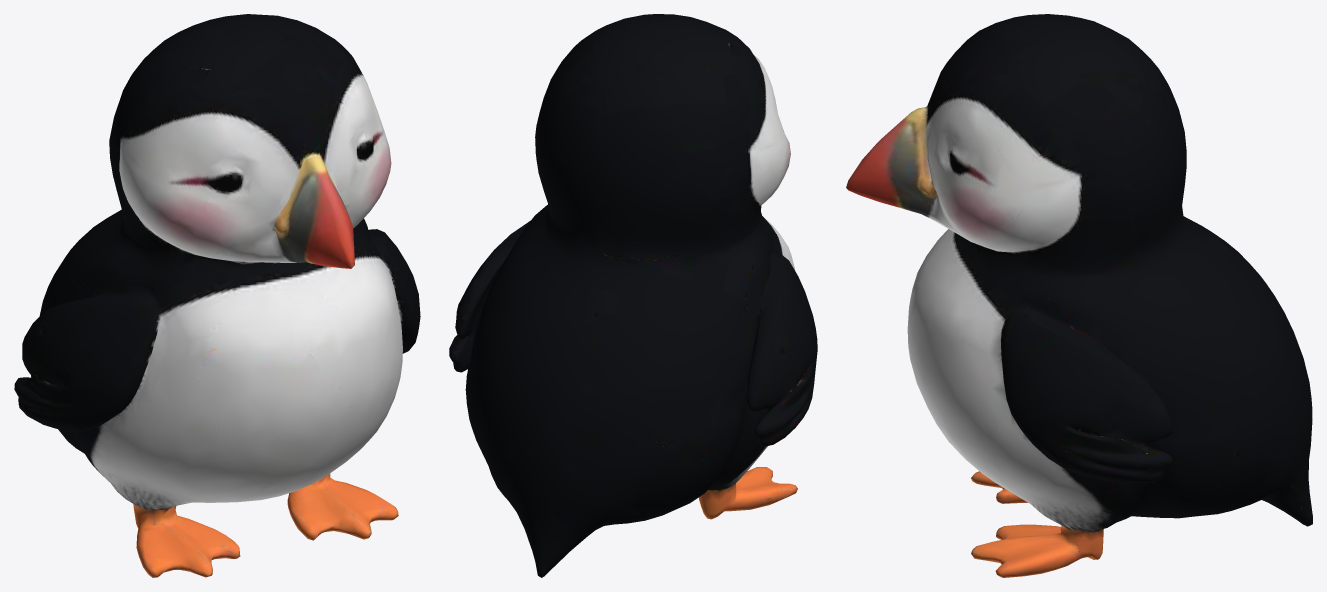
Rendered from puffin.glb.
3 views of the same model, side by side, from view 1: azimuth 30°, elevation 25°; view 2: azimuth 150°, elevation 25°; view 3: azimuth 270°, elevation 25° (orthographic). The views are drawn at different scales.
Size of the model in its own units: 0.7177 by 0.9429 by 0.8038.
1 material, 1 textured.
